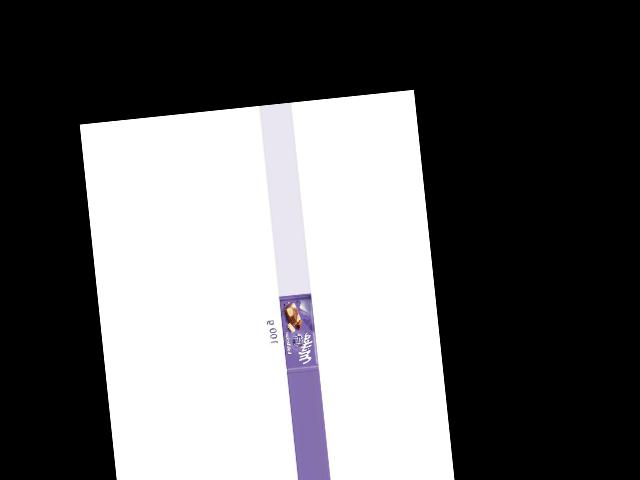chocolate: (273, 292, 320, 373)
